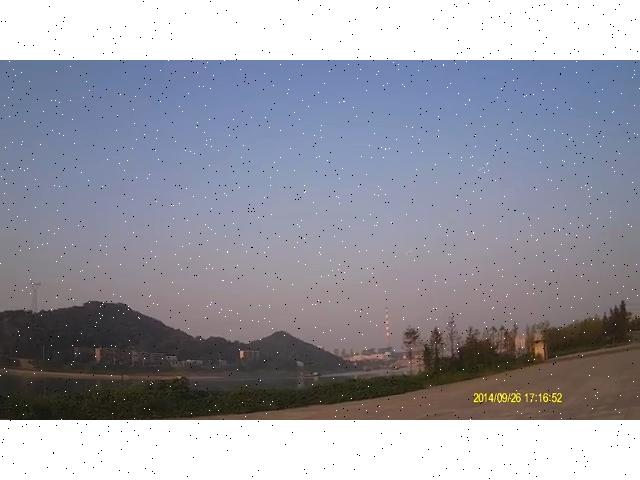Anti-Drone: (470, 157, 498, 178)
